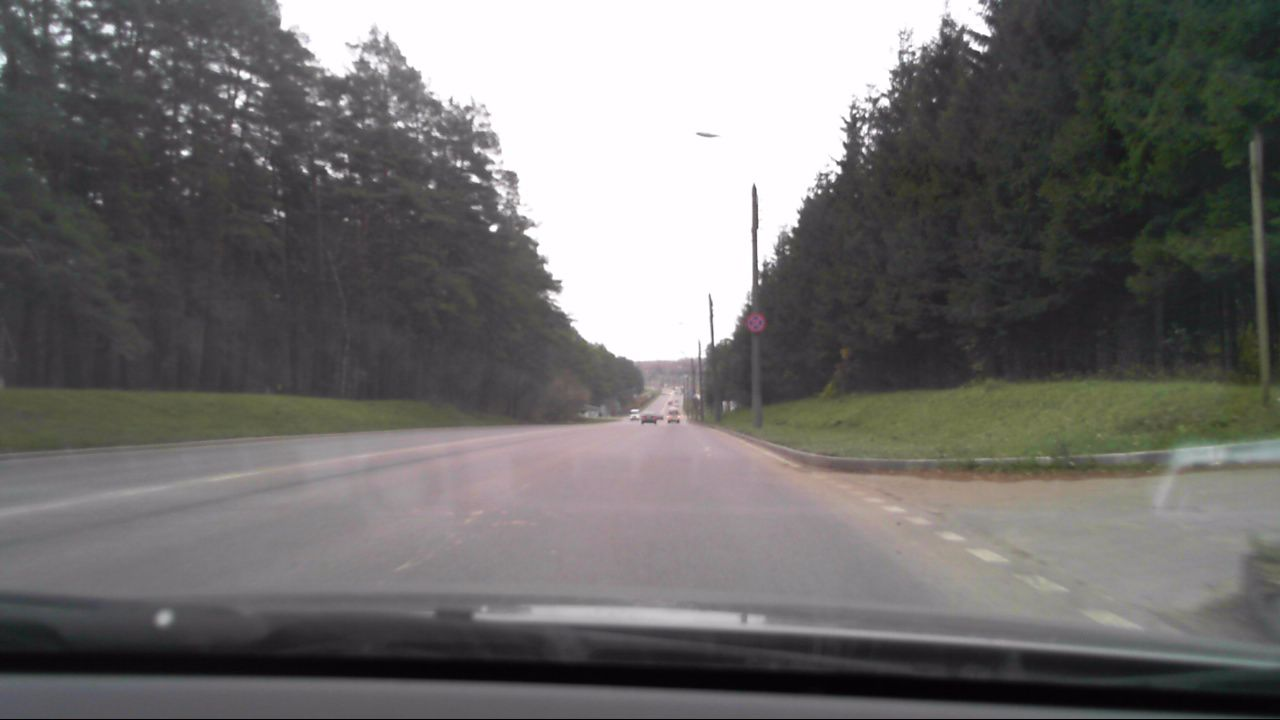No Parking: (746, 312, 768, 333)
